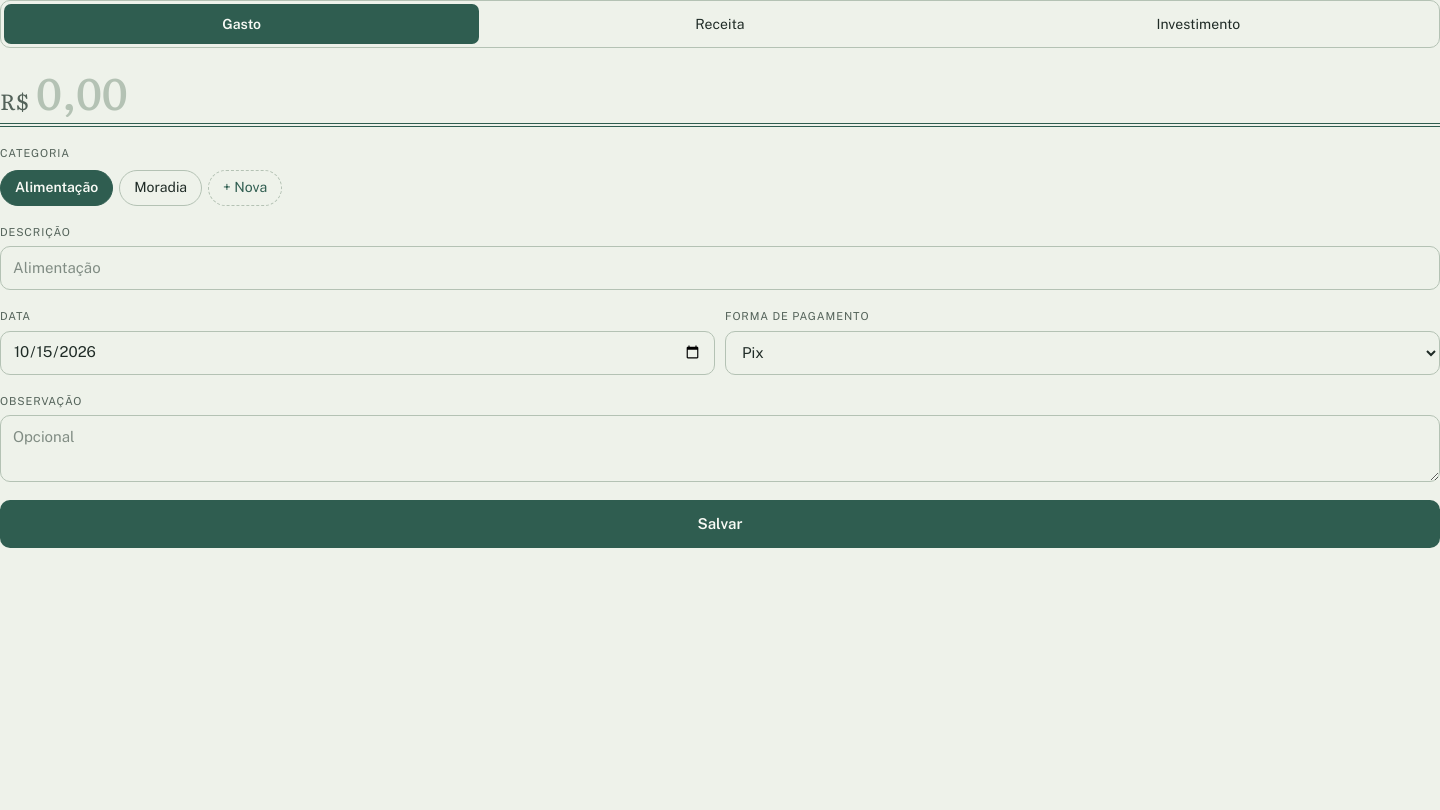
TransactionForm › criação rápida de categoria › cria a categoria com o tipo atual, recarrega a lista e a seleciona
The width and height of the screenshot is (1440, 810).
Click the button with aria-label "Nova categoria".
click(245, 188)  # box [208,170,282,206]
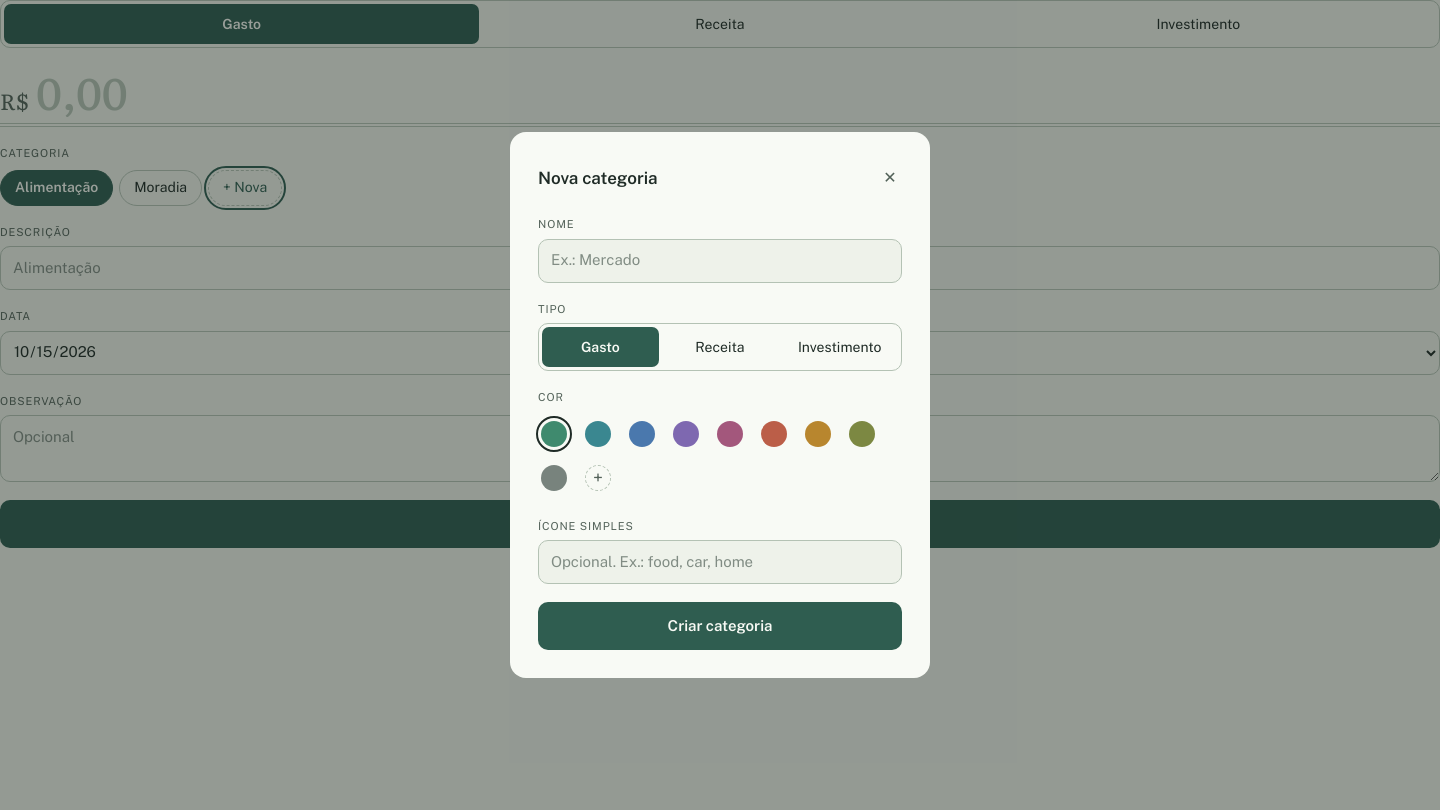
Type "Pets" into the field labelled "Nome".
click(720, 260); type("Pets")  # box [538,238,902,282]
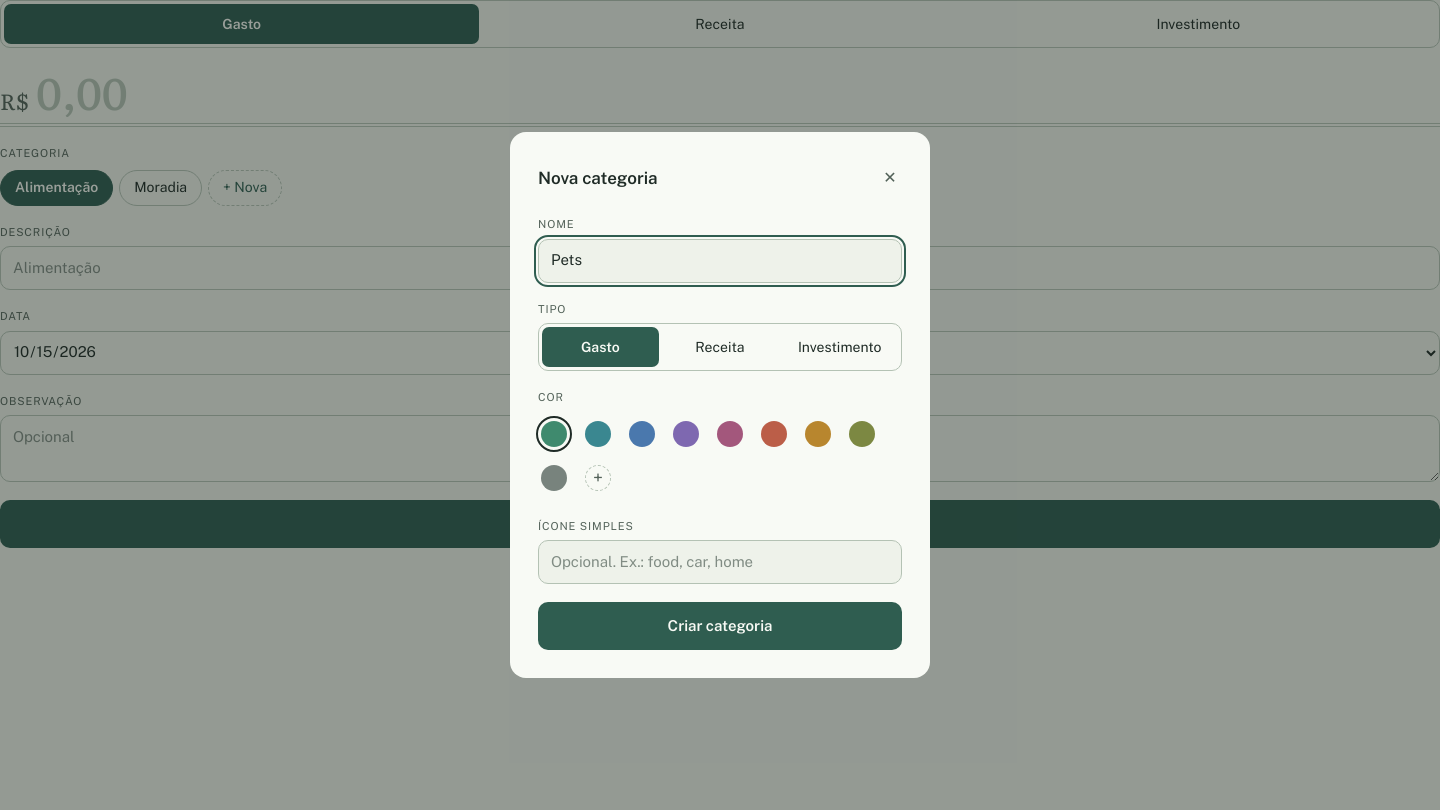
Click the button "Criar categoria".
click(720, 626)  # box [538,602,902,650]
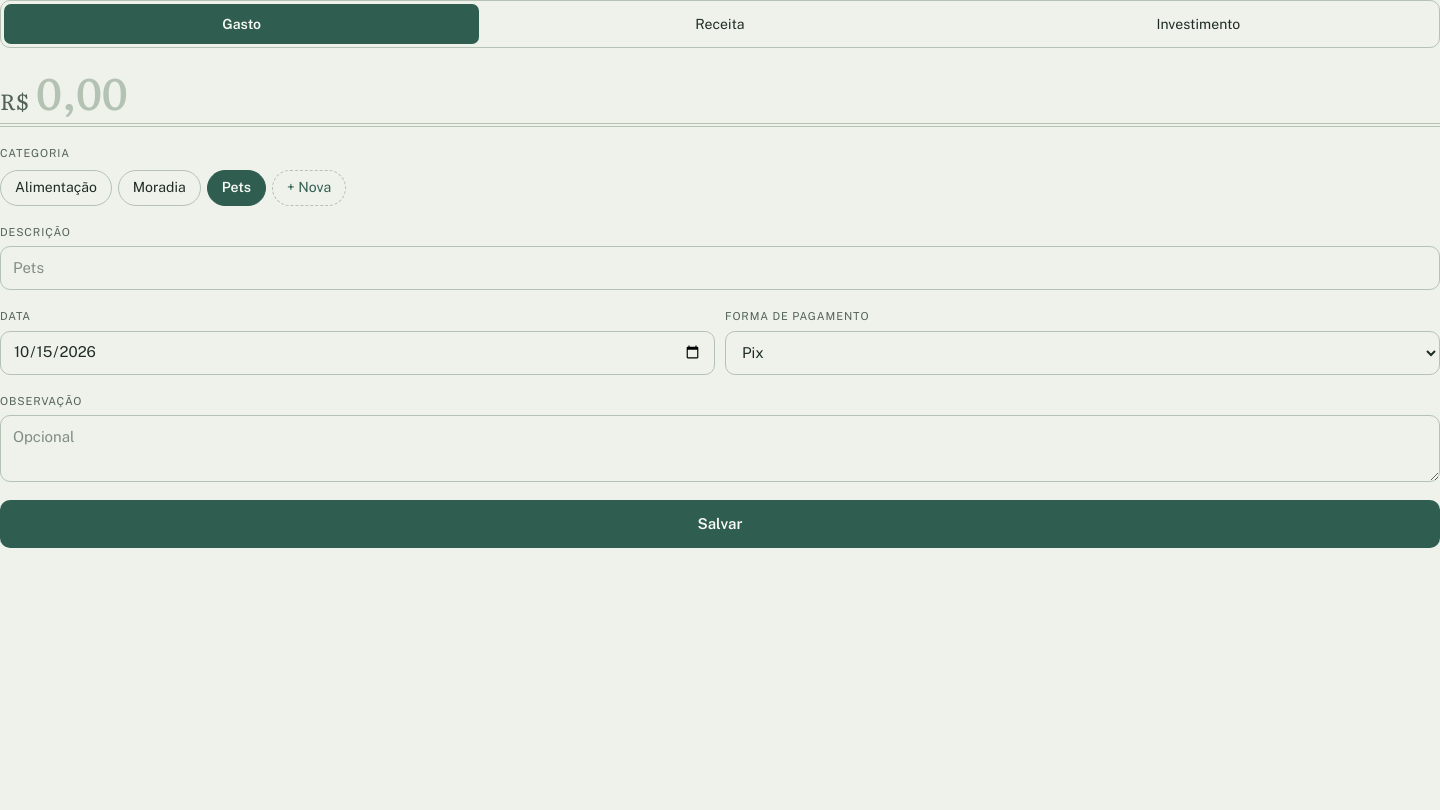
Check: the radio button labelled "Pets" is shown, box [207,170,266,206]
